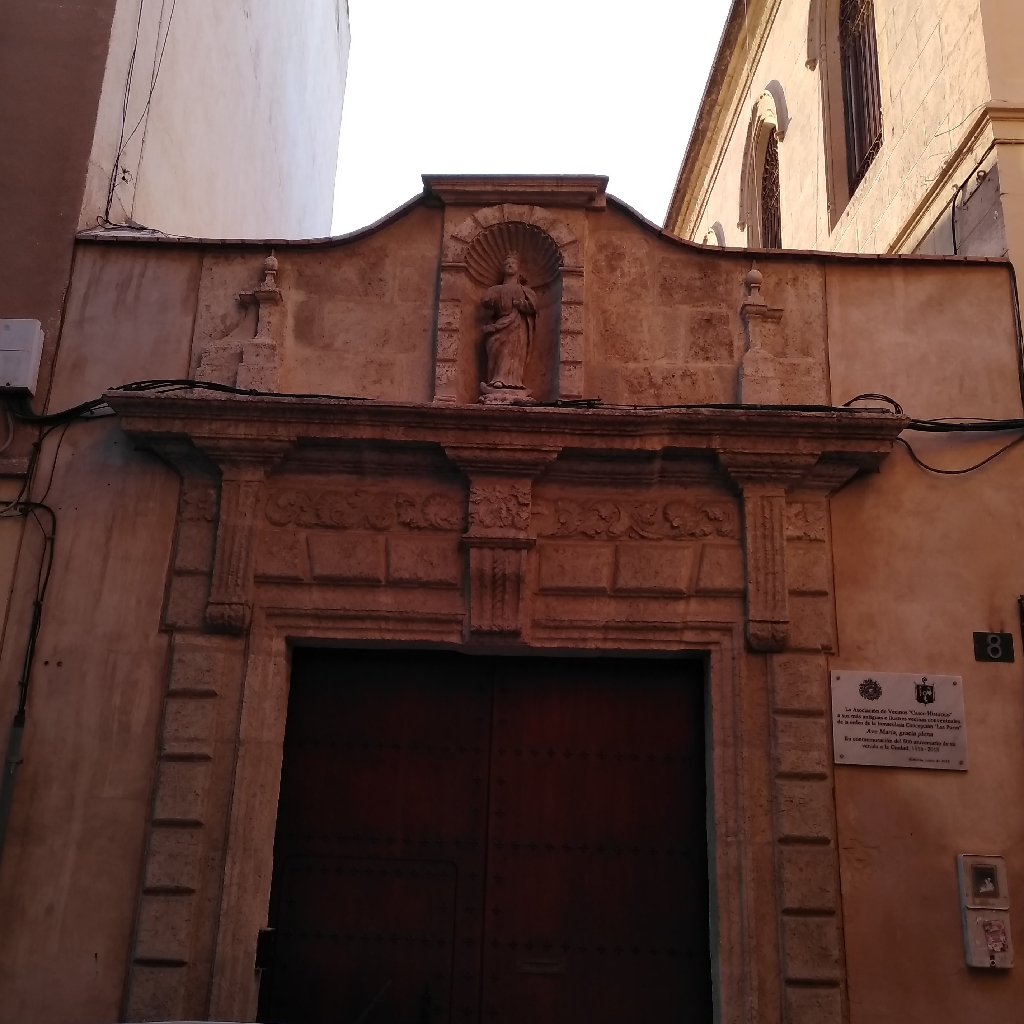vano-adintelado: (198, 608, 754, 1024)
